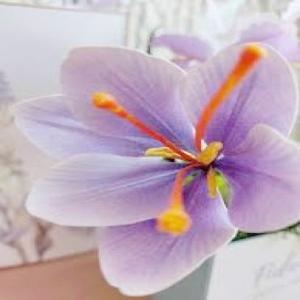Saffron: (13, 42, 300, 297)
